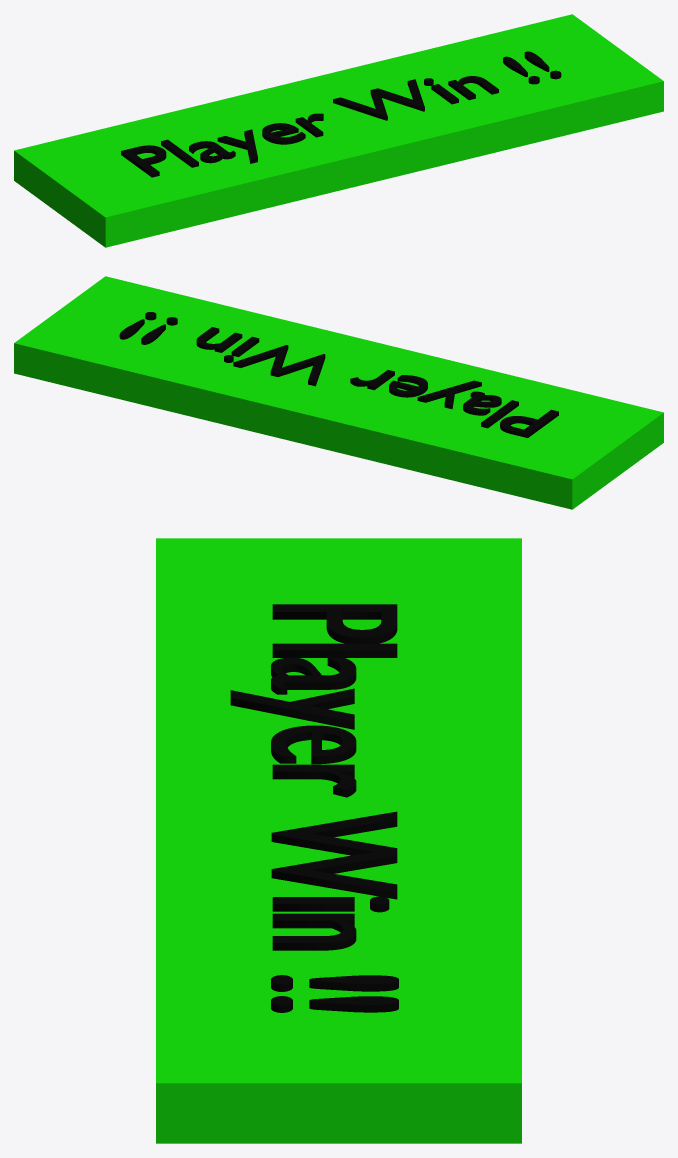
The model's file is PlayerWonText.glb.
3 renders of one model, top to bottom at view 1: azimuth 30°, elevation 25°; view 2: azimuth 150°, elevation 25°; view 3: azimuth 270°, elevation 25°, orthographic. The views are drawn at different scales.
Visible parts, largest first — view 1: Cube, テキスト; view 2: Cube, テキスト; view 3: Cube, テキスト.
Part boxes in pixels (x1,y1,x2,y2): Cube: (14,14,663,247); テキスト: (121,51,561,177); Cube: (14,276,663,509); テキスト: (119,312,558,437); Cube: (156,538,521,1143); テキスト: (230,604,398,1012).
Size of the model in its own units: 7.05 by 0.411 by 2.
